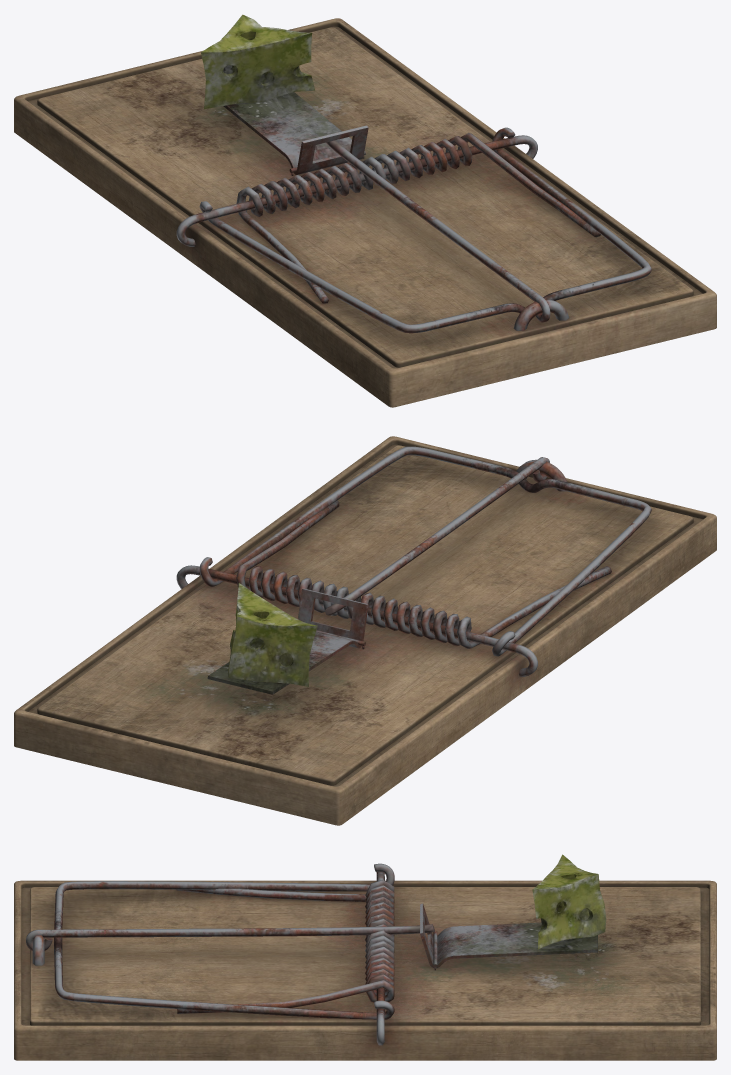
The picture shows the model from 3 angles, top to bottom: view 1: azimuth 30°, elevation 25°; view 2: azimuth 150°, elevation 25°; view 3: azimuth 270°, elevation 25°; orthographic projection. The views are drawn at different scales.
Parts seen in each view (by area): view 1: mousetrap; view 2: mousetrap; view 3: mousetrap.
Boxes of the visible parts, bbox=[...] form: mousetrap: bbox=[14, 14, 716, 407]; mousetrap: bbox=[14, 436, 716, 825]; mousetrap: bbox=[14, 854, 716, 1060].
Size of the model in its own units: 0.055 by 0.1004 by 0.0179.
Materials: 1 (1 with a texture image).
